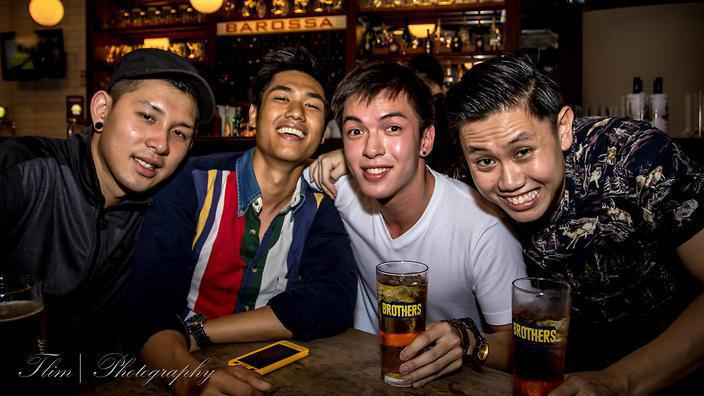Drunk: (460, 117, 559, 218), (114, 81, 189, 189), (345, 96, 412, 198), (261, 72, 322, 163)
